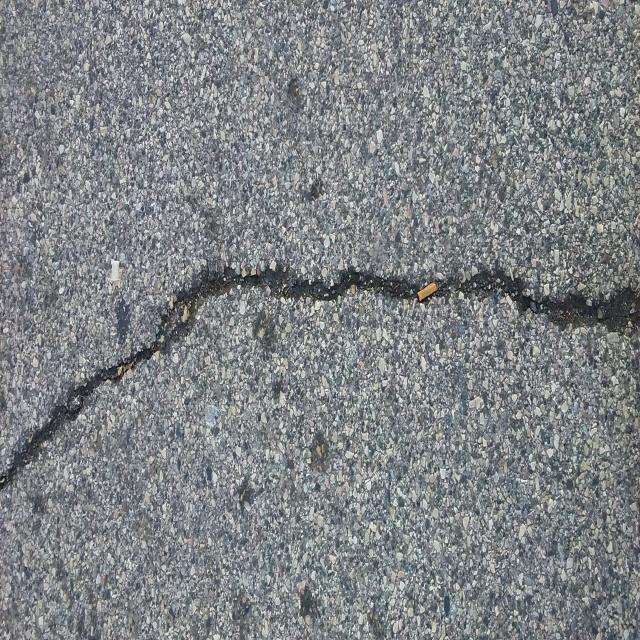transverse: (0, 198, 637, 527)
